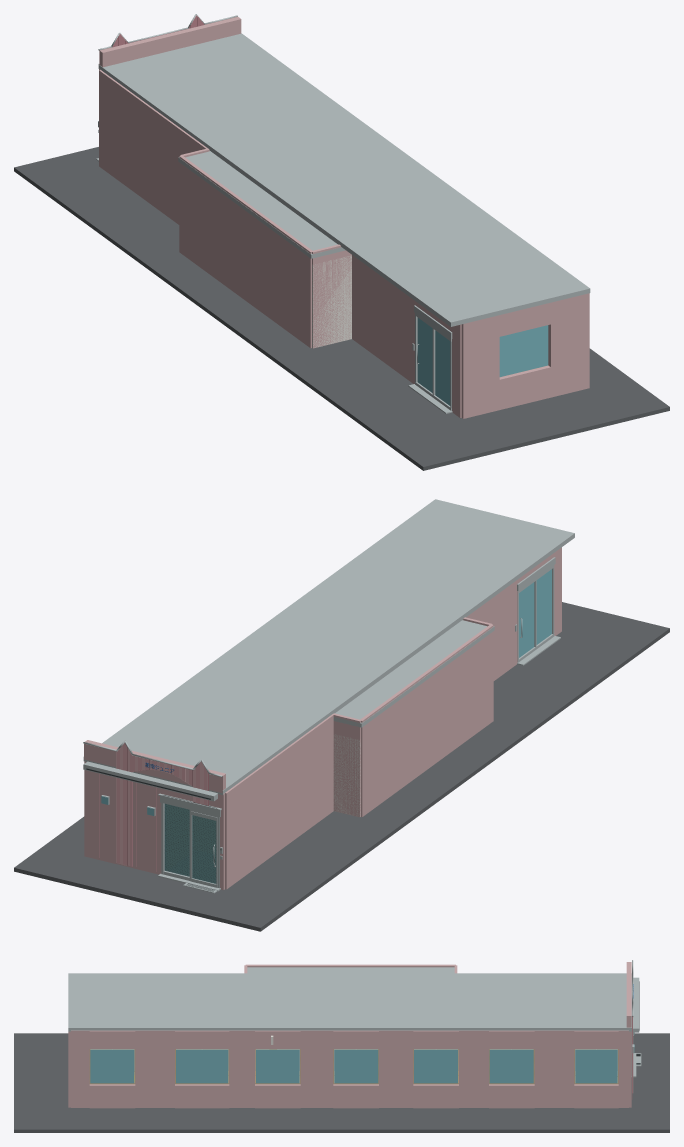
File: shonan_junior.glb
The picture shows the model from 3 angles, top to bottom: view 1: azimuth 30°, elevation 25°; view 2: azimuth 150°, elevation 25°; view 3: azimuth 270°, elevation 25°; orthographic projection. The views are drawn at different scales.
Parts seen in each view (by area): view 1: Main roof, Site, Wall.002, Wall.004, Side entry Exterior pier.001, Service wing roof, Right end solid.001, Right end solid, Cross wall, Cross wall.007, Main frontage parapet, Right end frosted window (+5 smaller); view 2: Main roof, Site, Wall.002, Wall.004, Front wall.001, Service wing roof, Cross wall.001, Side entry Exterior pier.001, Fixed left pane, Right door glazing, Cross wall.003, Awning rolled housing (+3 smaller); view 3: Main roof, Site, Wall.018, Wall.008, Wall.014, Wall.012, Wall.016, Wall.010, Frosted window.001, Frosted window, Frosted window.003, Frosted window.005 (+23 smaller).
Part boxes in pixels (<box>): Main roof: <box>99,33,590,326</box>; Site: <box>14,147,669,470</box>; Wall.002: <box>179,155,312,348</box>; Wall.004: <box>99,70,208,224</box>; Side entry Exterior pier.001: <box>352,255,416,383</box>; Service wing roof: <box>178,151,345,258</box>; Right end solid.001: <box>548,293,589,397</box>; Right end solid: <box>461,315,499,418</box>; Cross wall: <box>312,244,351,348</box>; Cross wall.007: <box>312,255,351,347</box>; Main frontage parapet: <box>99,17,241,67</box>; Right end frosted window: <box>499,325,548,376</box>; Main roof: <box>83,499,574,794</box>; Site: <box>14,602,669,931</box>; Wall.002: <box>360,624,493,816</box>; Wall.004: <box>225,714,333,889</box>; Front wall.001: <box>84,761,162,874</box>; Service wing roof: <box>333,620,494,727</box>; Cross wall.001: <box>332,713,360,817</box>; Side entry Exterior pier.001: <box>466,579,517,680</box>; Fixed left pane: <box>164,803,189,876</box>; Right door glazing: <box>192,815,216,883</box>; Cross wall.003: <box>333,734,360,816</box>; Awning rolled housing: <box>83,761,217,801</box>; Main roof: <box>68,973,631,1031</box>; Site: <box>14,1033,669,1132</box>; Wall.018: <box>534,1030,574,1107</box>; Wall.008: <box>135,1030,174,1107</box>; Wall.014: <box>379,1030,413,1107</box>; Wall.012: <box>300,1030,333,1107</box>; Wall.016: <box>459,1030,488,1107</box>; Wall.010: <box>229,1030,254,1107</box>; Frosted window.001: <box>176,1049,228,1083</box>; Frosted window: <box>90,1049,134,1083</box>; Frosted window.003: <box>334,1049,378,1083</box>; Frosted window.005: <box>489,1049,533,1083</box>.
Bounding box in the file's own units: 8 × 4.19 × 23.
Materials: 33 (7 with a texture image).
